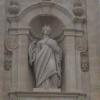Statue: (18, 8, 80, 100)
